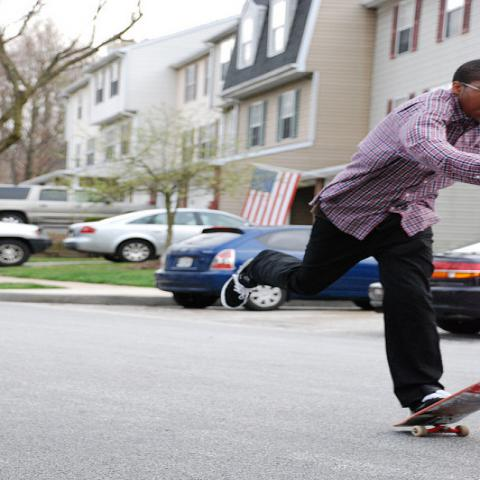car: (155, 223, 382, 308), (368, 238, 479, 338), (59, 207, 252, 261), (0, 184, 156, 230), (0, 221, 52, 266)
truck: (2, 187, 147, 242)
